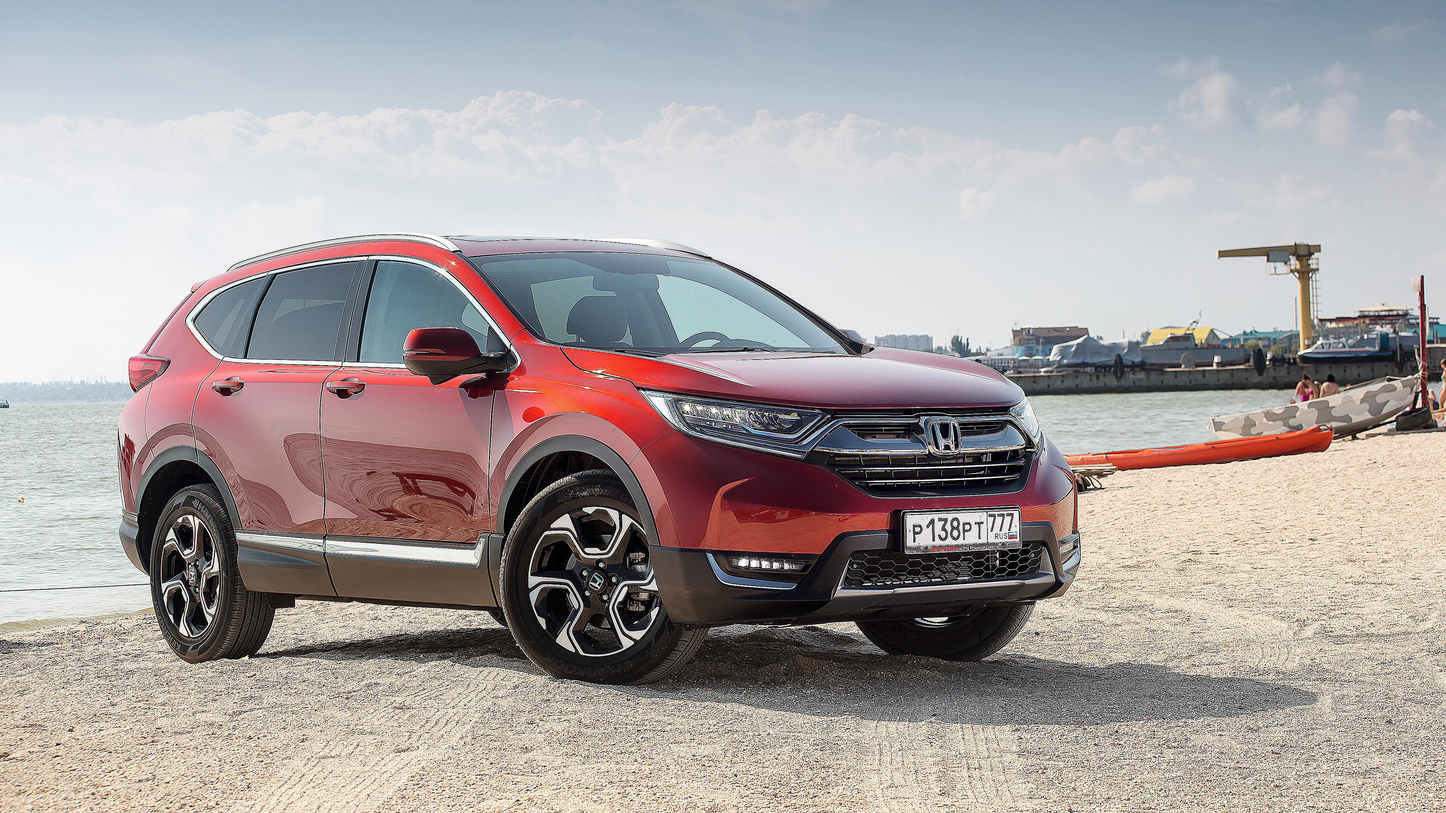Car hood: (558, 340, 1030, 415)
Driver-s door - -F-R-: (320, 241, 491, 581)
Fender - -F-R-: (484, 324, 677, 558)
Fender - -R-R-: (144, 334, 226, 481)
Front bumper: (624, 432, 1100, 636)
Headlight - -L-: (1003, 389, 1046, 448)
Headlight - -R-: (631, 384, 852, 467)
Passenger-s door - -R-R-: (195, 247, 343, 581)
Rear bumper: (108, 379, 154, 584)
Rear light - -R-: (123, 277, 198, 399)
Side bumper - -R-: (226, 525, 508, 619)
Side mirror - -R-: (391, 321, 502, 392)
